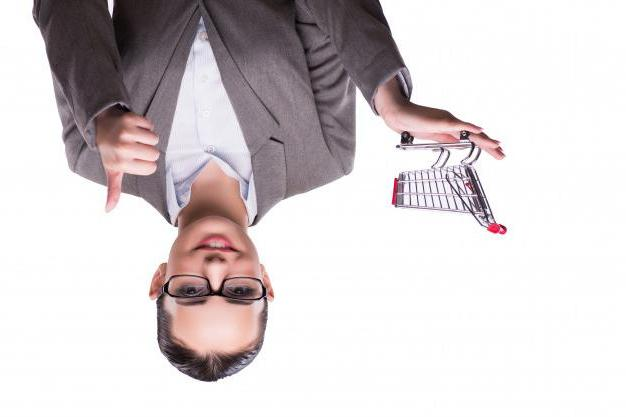thumbsdown: (104, 112, 160, 214)
